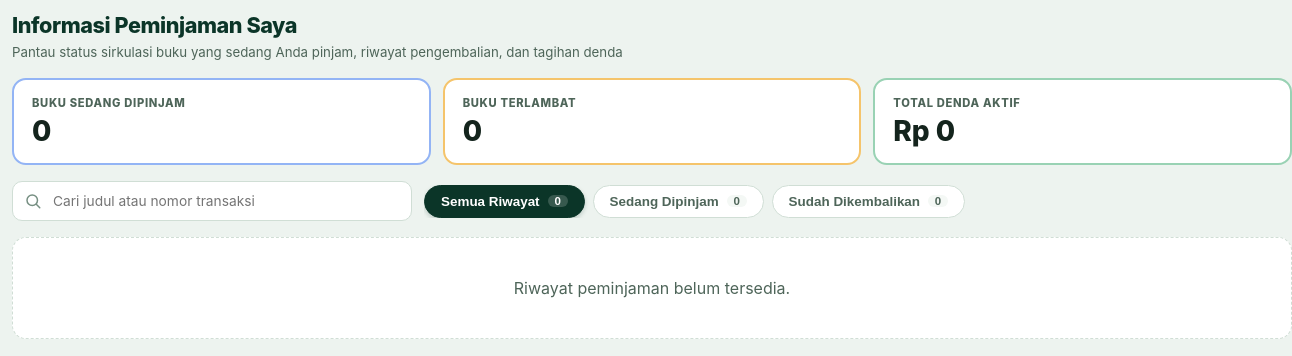
Test: Informasi Peminjaman › kotak ringkasan "Buku Sedang Dipinjam" bisa diklik untuk memfilter
The image size is (1292, 356).
Expected: the text "Riwayat peminjaman belum tersedia." is shown, 514,278 -> 790,298
Click the button "Buku Sedang Dipinjam 0" at (109,103), box 12,78 -> 431,165
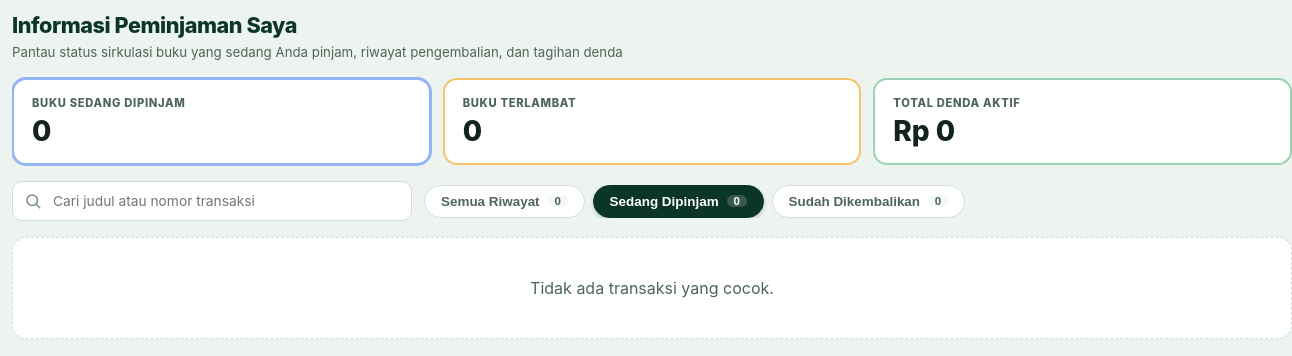
Now the text "Tidak ada transaksi yang cocok." is shown, box 530,278 -> 774,298
